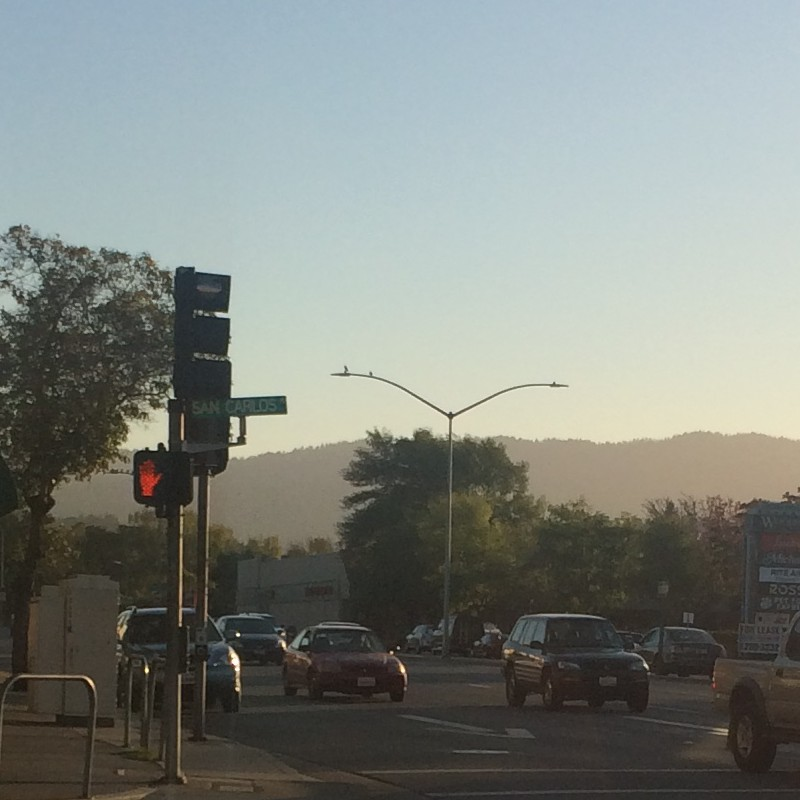stop: (127, 449, 203, 511)
